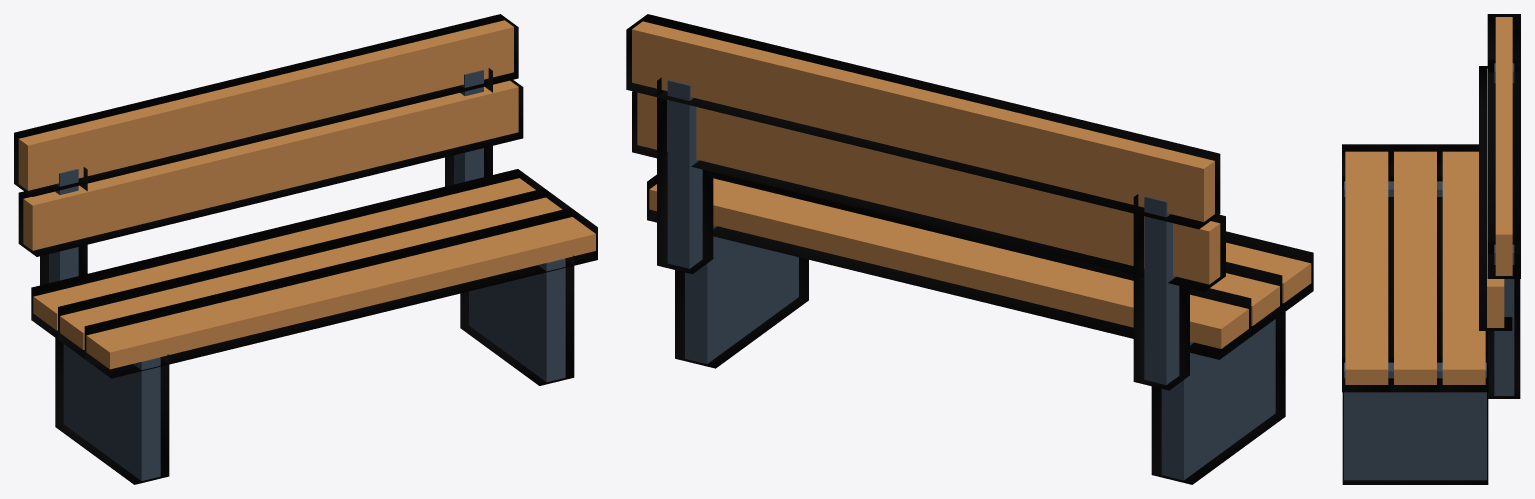
The model's file is BR_Bank.glb.
3 views of the same model, side by side, from view 1: azimuth 30°, elevation 25°; view 2: azimuth 150°, elevation 25°; view 3: azimuth 270°, elevation 25° (orthographic). The views are drawn at different scales.
Parts seen in each view (by area): view 1: BR_Bank_Mesh, BR_Bank_Outline; view 2: BR_Bank_Mesh, BR_Bank_Outline; view 3: BR_Bank_Mesh, BR_Bank_Outline.
Part boxes in pixels (<box>): BR_Bank_Mesh: <box>18,20,595,480</box>; BR_Bank_Outline: <box>14,14,597,484</box>; BR_Bank_Mesh: <box>632,21,1311,480</box>; BR_Bank_Outline: <box>626,14,1313,484</box>; BR_Bank_Mesh: <box>1344,17,1514,480</box>; BR_Bank_Outline: <box>1342,14,1520,484</box>.
Size of the model in its own units: 1.8 by 1.02 by 0.6242.
